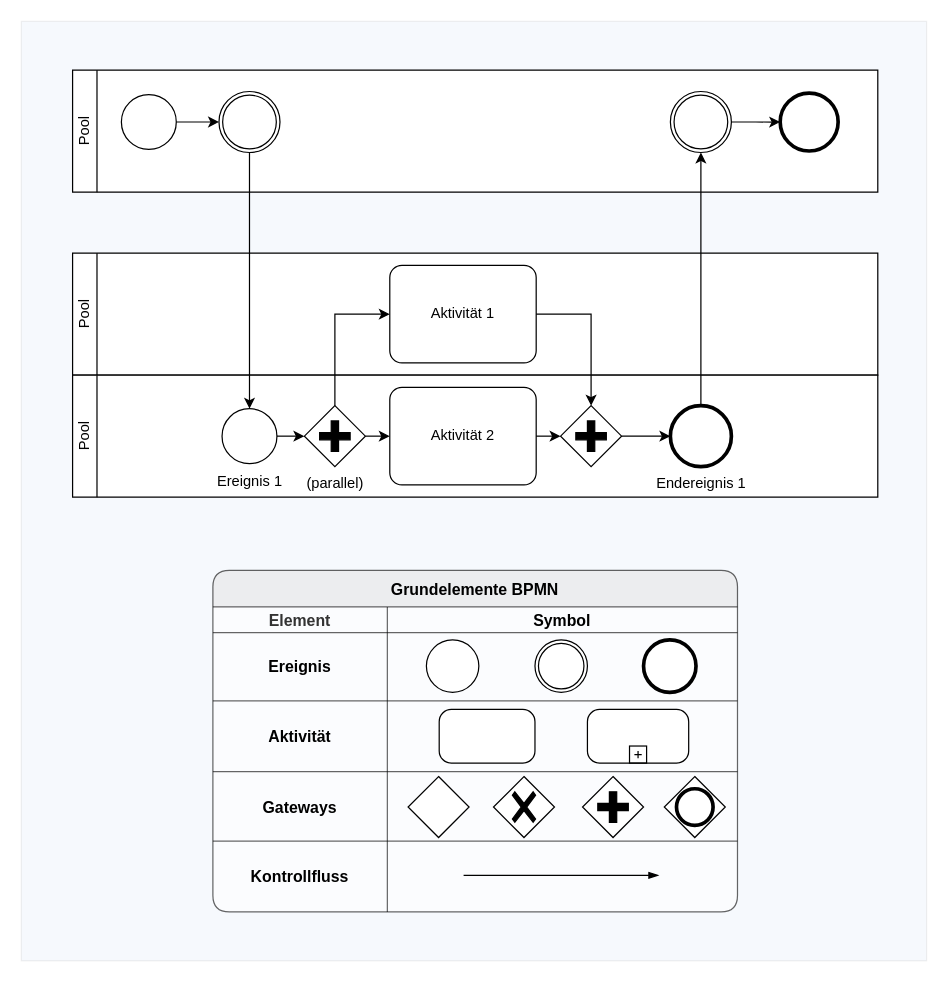
The diagram is 948 pixels wide and 982 high, and some of its shapes have lost their labels. The centre of each missing label's shape, as x and y in pixels:
"Endereignis 2" belongs at point (808, 121).
"Startereignis" belongs at point (148, 121).
"Zwischenereignis 1" belongs at point (249, 121).
"Zwischenereignis 2" belongs at point (700, 121).
